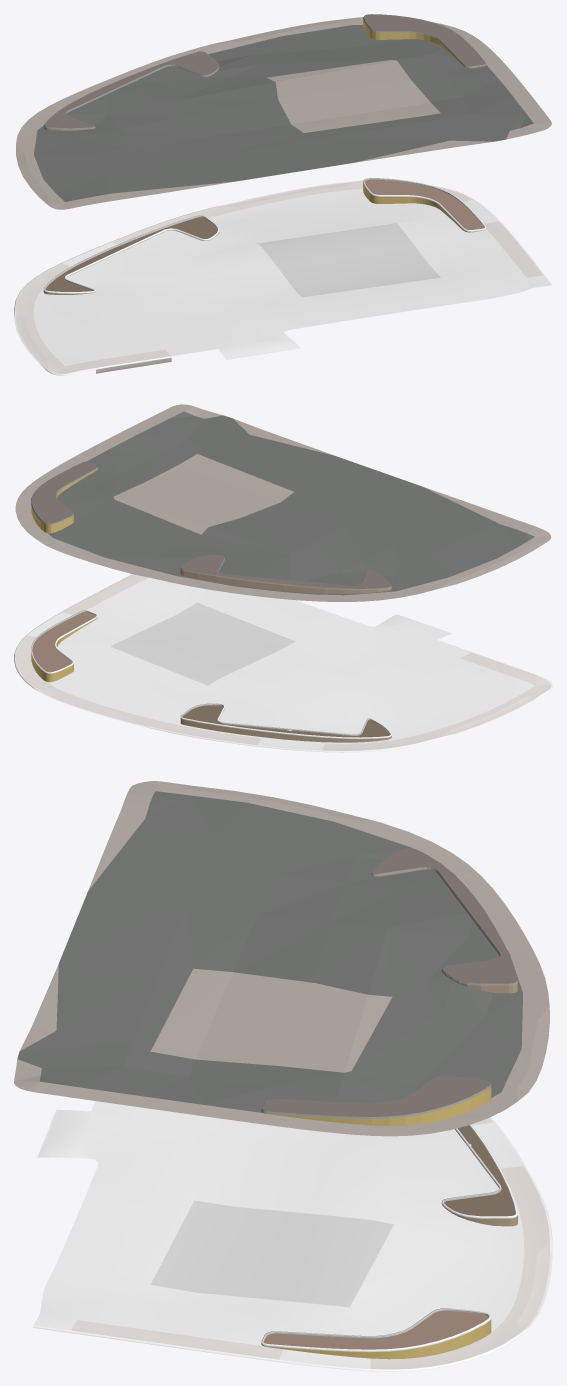
Rendered from sidewalk_gasstation_north1.dae.
3 views of the same model, one above another, from view 1: azimuth 30°, elevation 25°; view 2: azimuth 150°, elevation 25°; view 3: azimuth 270°, elevation 25° (orthographic). The views are drawn at different scales.
Visible parts, largest first — view 1: sidewalk_gasstation_north_a1000, sidewalk_gasstation_north_a500; view 2: sidewalk_gasstation_north_a500, sidewalk_gasstation_north_a1000; view 3: sidewalk_gasstation_north_a500, sidewalk_gasstation_north_a1000.
Boxes of the visible parts, bbox=[...] form: sidewalk_gasstation_north_a1000: bbox=[14, 178, 552, 375]; sidewalk_gasstation_north_a500: bbox=[16, 14, 551, 209]; sidewalk_gasstation_north_a500: bbox=[15, 404, 551, 601]; sidewalk_gasstation_north_a1000: bbox=[14, 574, 552, 752]; sidewalk_gasstation_north_a500: bbox=[14, 781, 549, 1136]; sidewalk_gasstation_north_a1000: bbox=[33, 1101, 552, 1371].
Bounding box in the file's own units: 64.06 × 41.92 × 22.32.
